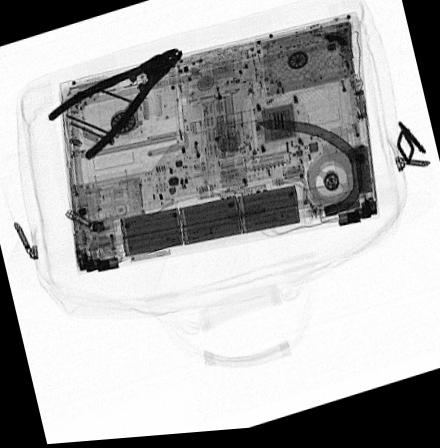Pliers: (43, 48, 185, 162)
